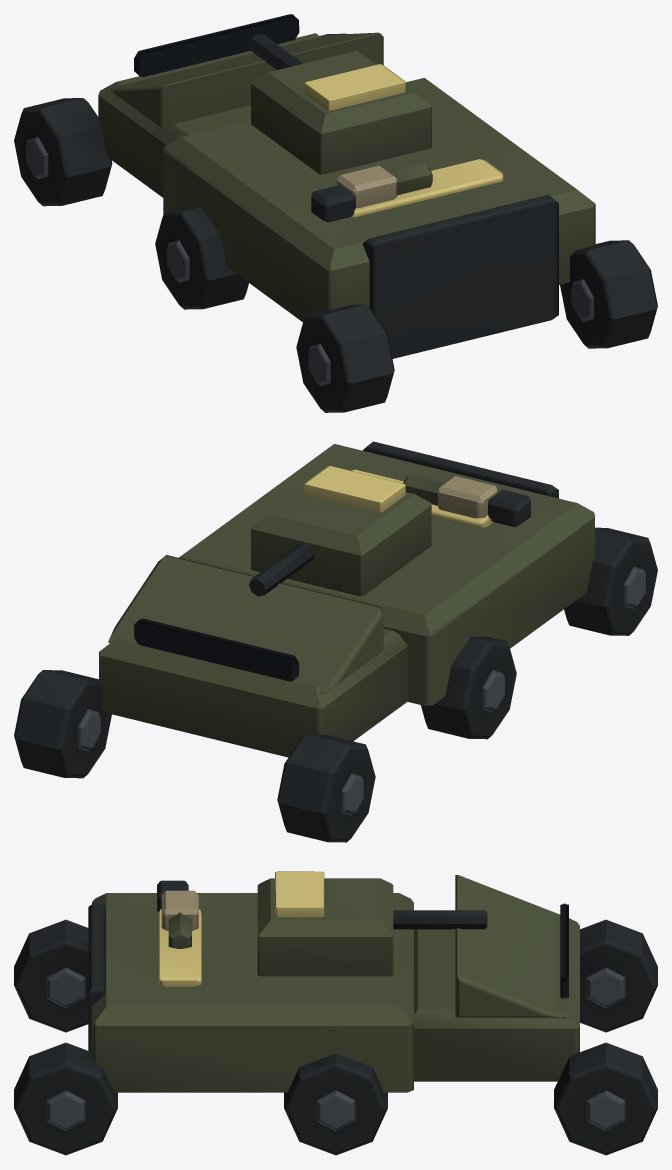
Rendered from assault_vehicle.glb.
3 renders of one model, top to bottom at view 1: azimuth 30°, elevation 25°; view 2: azimuth 150°, elevation 25°; view 3: azimuth 270°, elevation 25°, orthographic. The views are drawn at different scales.
Visible parts, largest first — view 1: Body, Turret; view 2: Body, Turret; view 3: Body, Turret.
Part boxes in pixels (x1=…): Body: x1=14, y1=14, x2=657, y2=412; Turret: x1=249, y1=33, x2=431, y2=174; Body: x1=14, y1=441, x2=657, y2=842; Turret: x1=249, y1=466, x2=431, y2=596; Body: x1=14, y1=875, x2=657, y2=1155; Turret: x1=257, y1=871, x2=487, y2=976.
Size of the model in its own units: 2.47 by 1.5 by 4.46.
